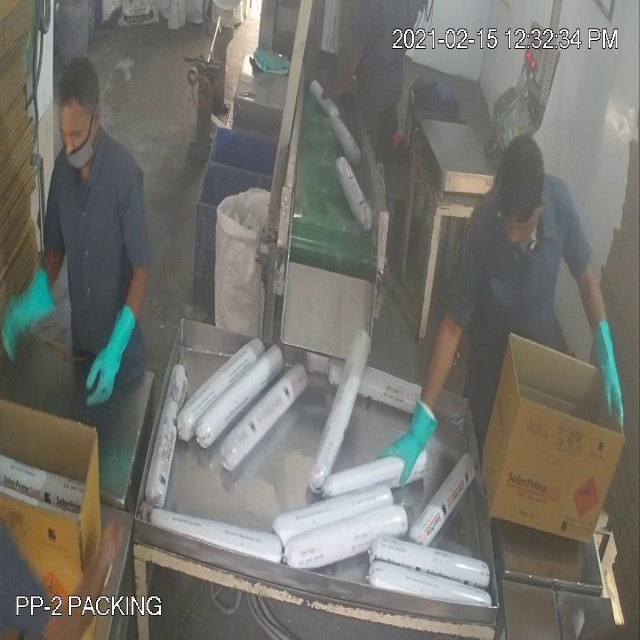Guantes: (372, 387, 442, 504), (0, 255, 64, 380), (80, 303, 144, 418), (585, 295, 632, 441)
Sin_guantes: (311, 32, 370, 111)
